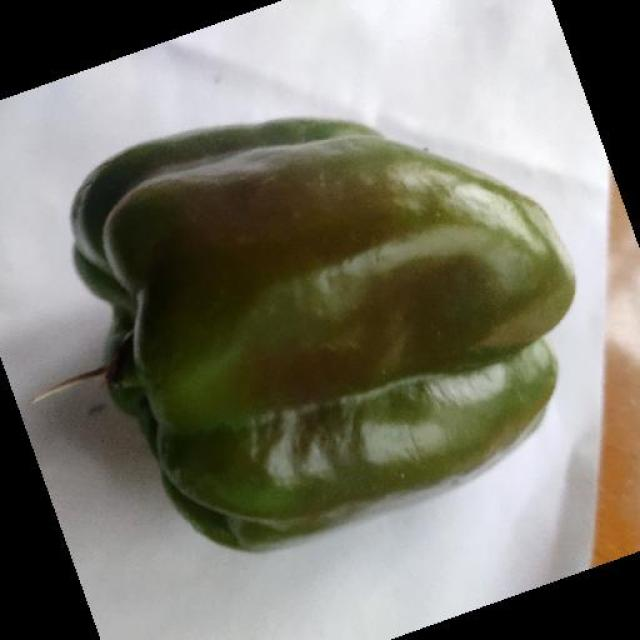Stale_Capsicum: (79, 112, 584, 412)
